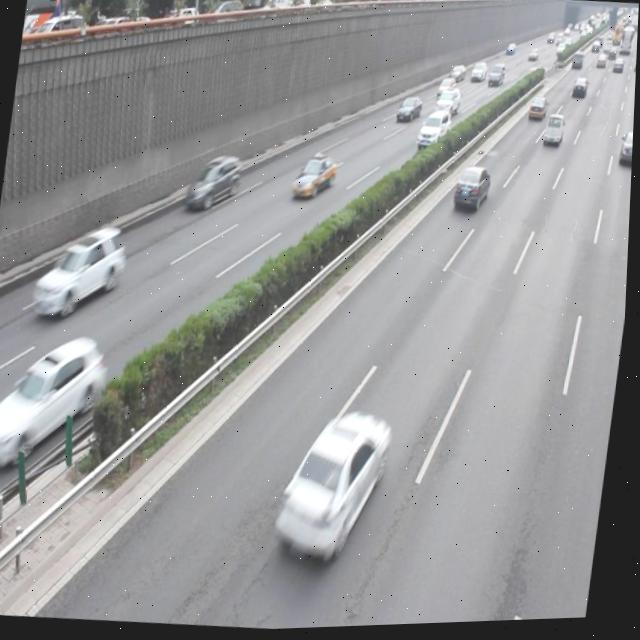car: (271, 407, 396, 567), (0, 327, 111, 479), (31, 219, 131, 322), (185, 153, 244, 214), (291, 152, 339, 202), (451, 164, 494, 218)
